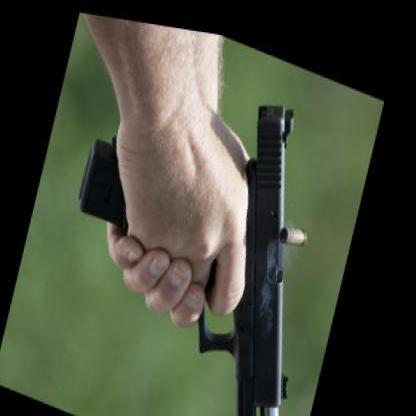pistol: (42, 24, 366, 412)
